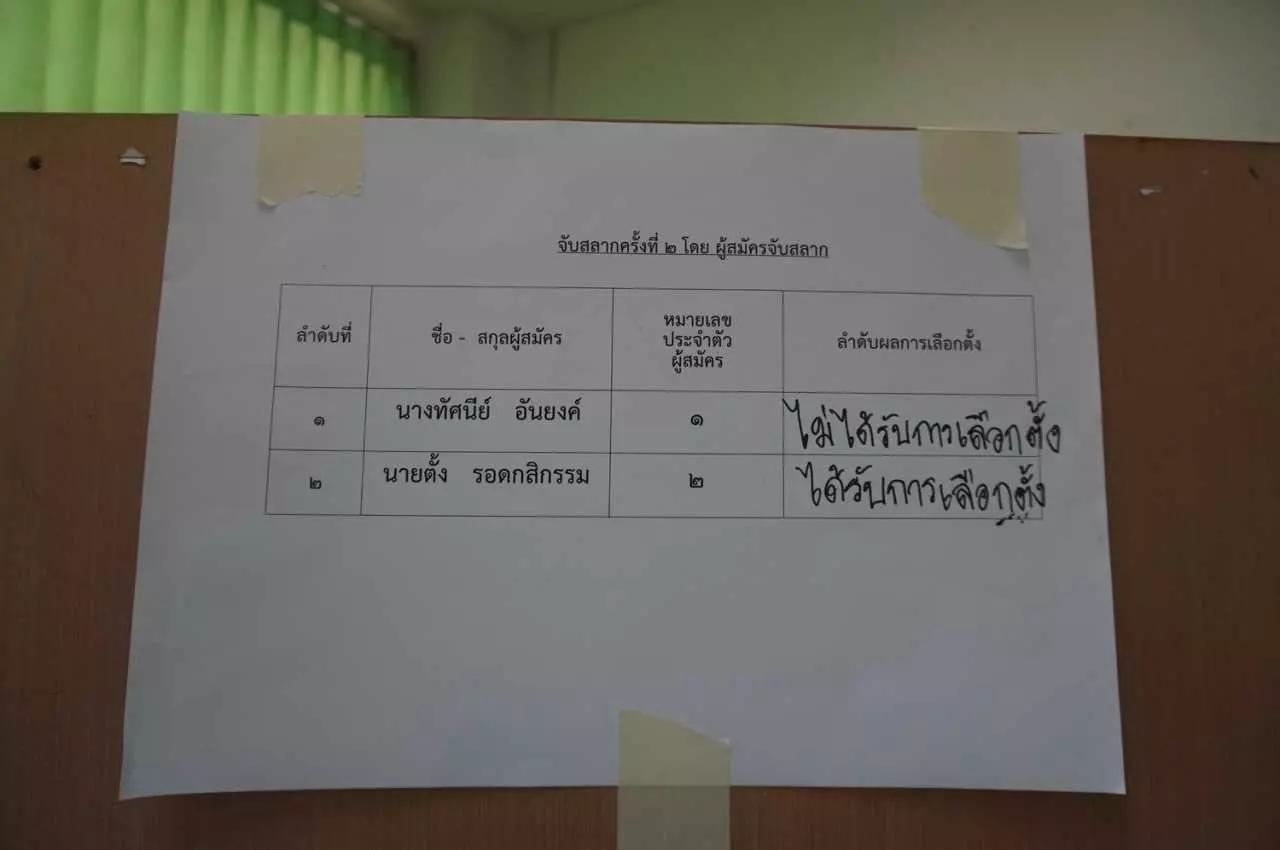text: (773, 384, 1072, 464), (550, 218, 835, 265), (388, 384, 590, 428), (377, 455, 595, 489), (829, 318, 989, 359), (424, 315, 569, 353), (661, 336, 733, 380), (656, 318, 738, 353), (290, 314, 357, 348), (661, 307, 735, 329), (686, 409, 707, 430)
